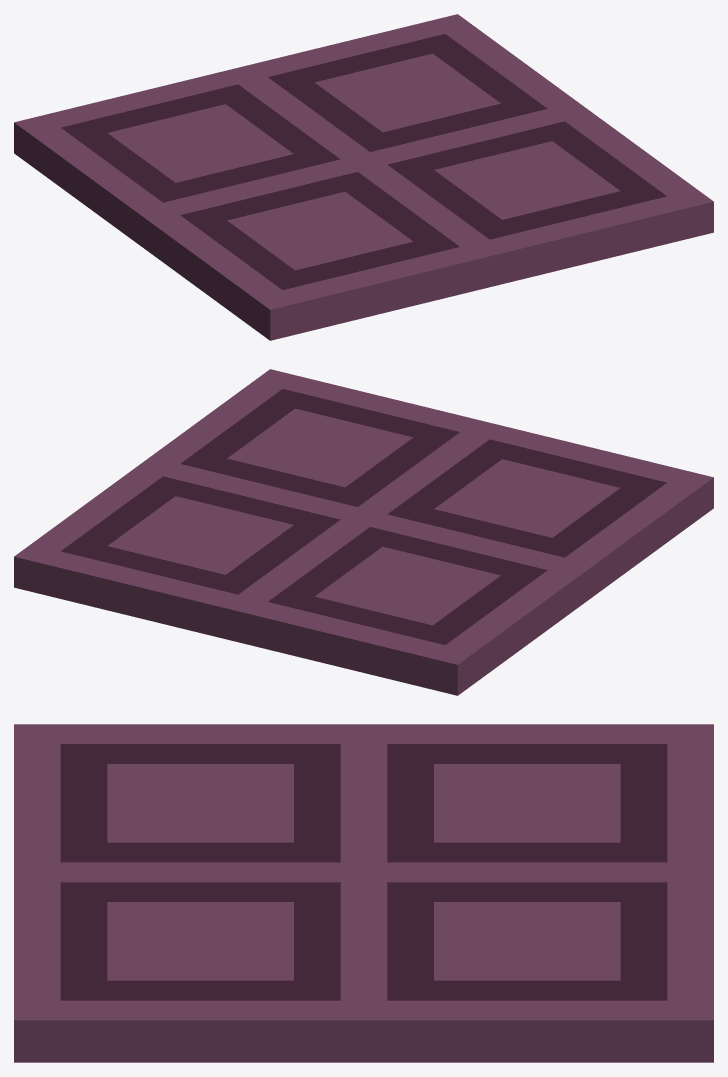
File: dungeon_c_b_ground_c_a.obj
3 renders of one model, top to bottom at view 1: azimuth 30°, elevation 25°; view 2: azimuth 150°, elevation 25°; view 3: azimuth 270°, elevation 25°, orthographic. The views are drawn at different scales.
Size of the model in its own units: 1.5 by 0.1 by 1.5.
Materials: 1 (1 with a texture image).
